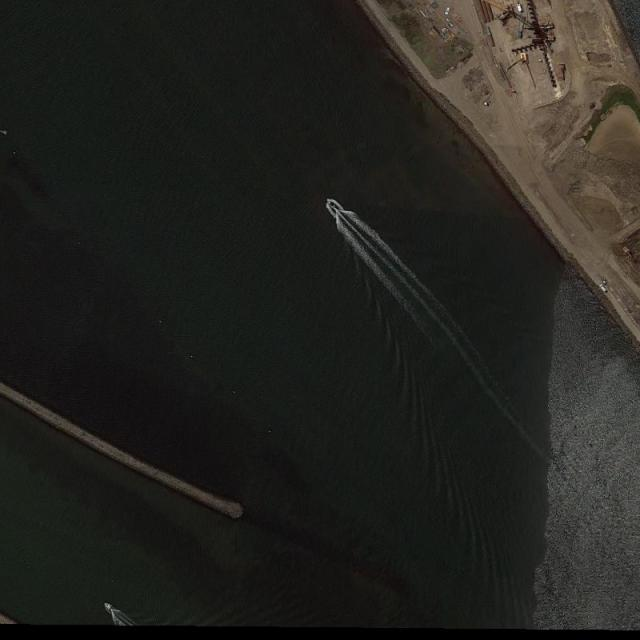vehicle: (598, 283, 608, 293)
